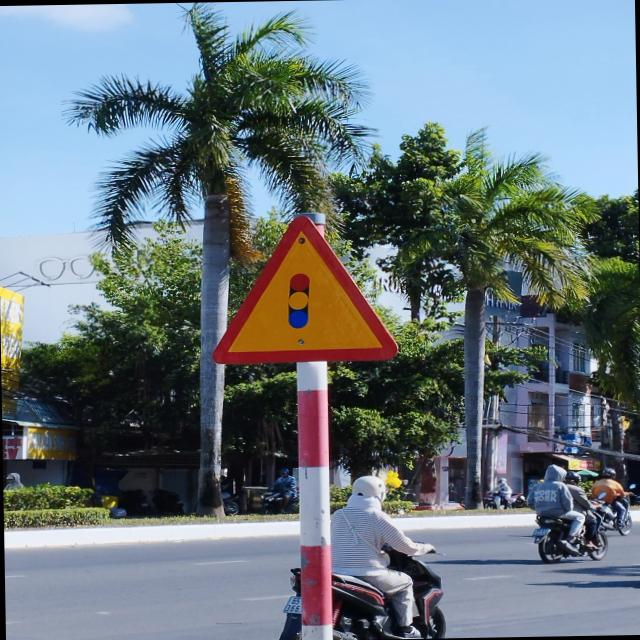Duong_Co_Go_Giam_Toc: (210, 212, 400, 364)
